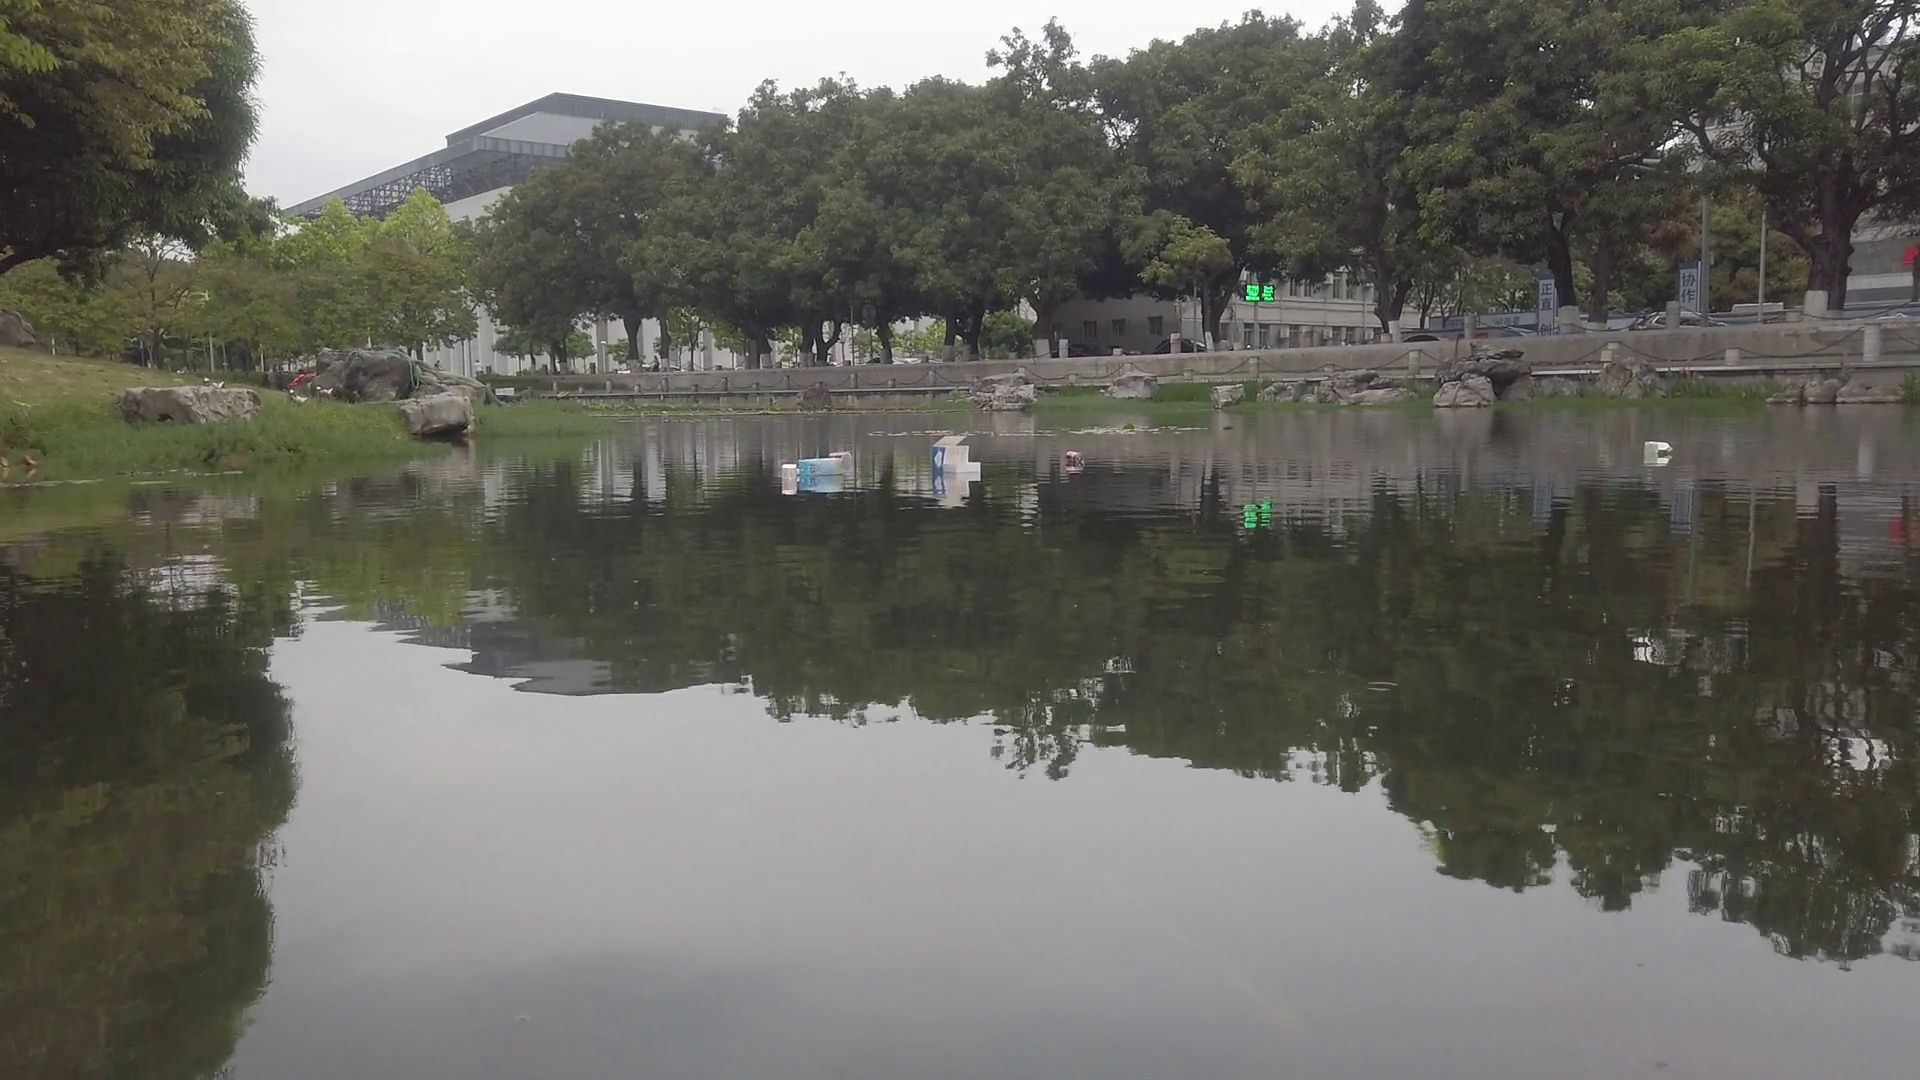bottle: (829, 448, 856, 467), (1065, 452, 1084, 465)
carton: (934, 435, 980, 480), (795, 455, 845, 487), (1644, 436, 1675, 468), (781, 462, 800, 484)
